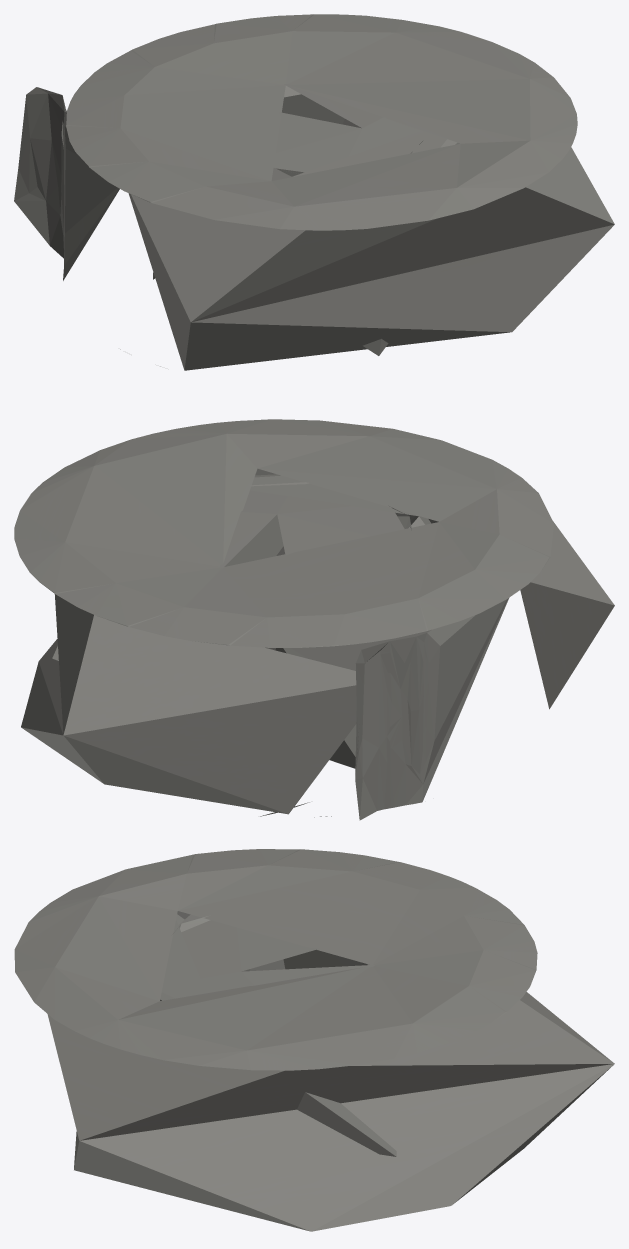
File: misc_tape_refill_a02.glb
3 renders of one model, top to bottom at view 1: azimuth 30°, elevation 25°; view 2: azimuth 150°, elevation 25°; view 3: azimuth 270°, elevation 25°, orthographic. The views are drawn at different scales.
Parts seen in each view (by area): view 1: geometry_0; view 2: geometry_0; view 3: geometry_0.
Part boxes in pixels (x1,y1,x2,y2): geometry_0: [14, 14, 614, 370]; geometry_0: [14, 419, 614, 820]; geometry_0: [14, 849, 614, 1231].
Size of the model in its own units: 0.3665 by 0.1372 by 0.42.
Materials: 1 (1 with a texture image).
